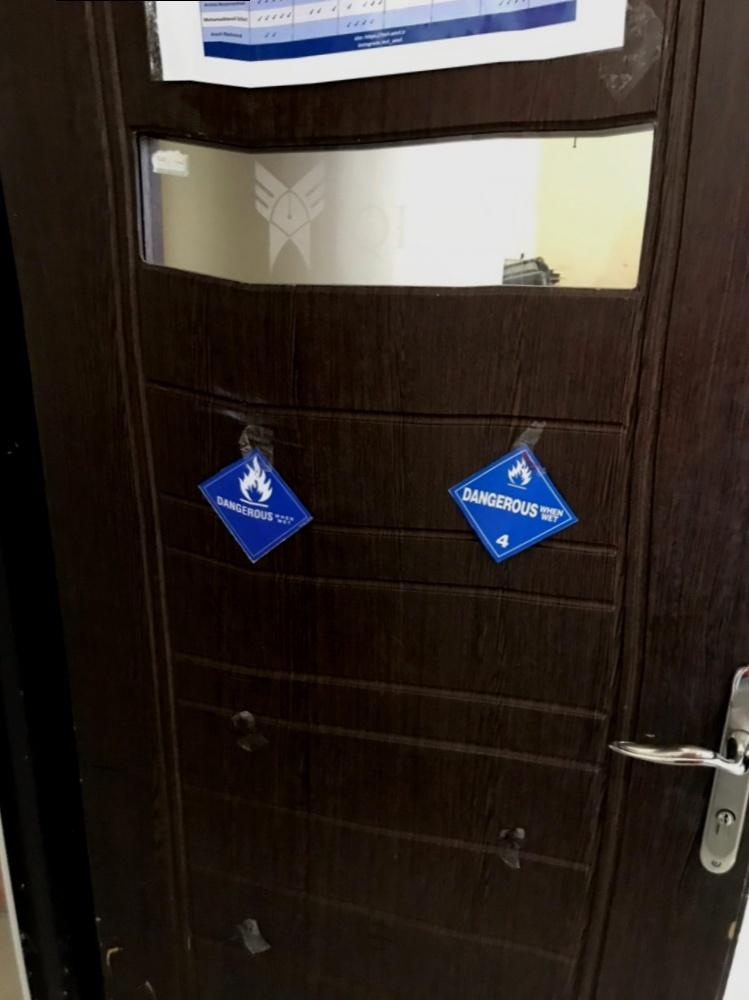dangerous-when-wet: (443, 447, 592, 578), (195, 448, 323, 573)
